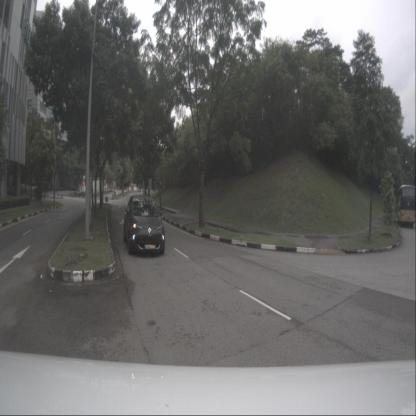vehicle-bus-rigid: (396, 184, 416, 228)
vehicle-car: (123, 194, 165, 255)
